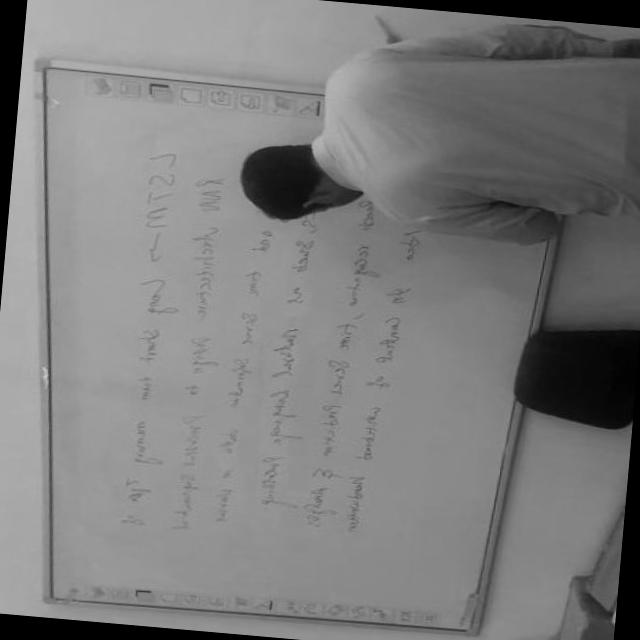Instructor: (225, 35, 640, 256)
White-board: (33, 64, 573, 632)
